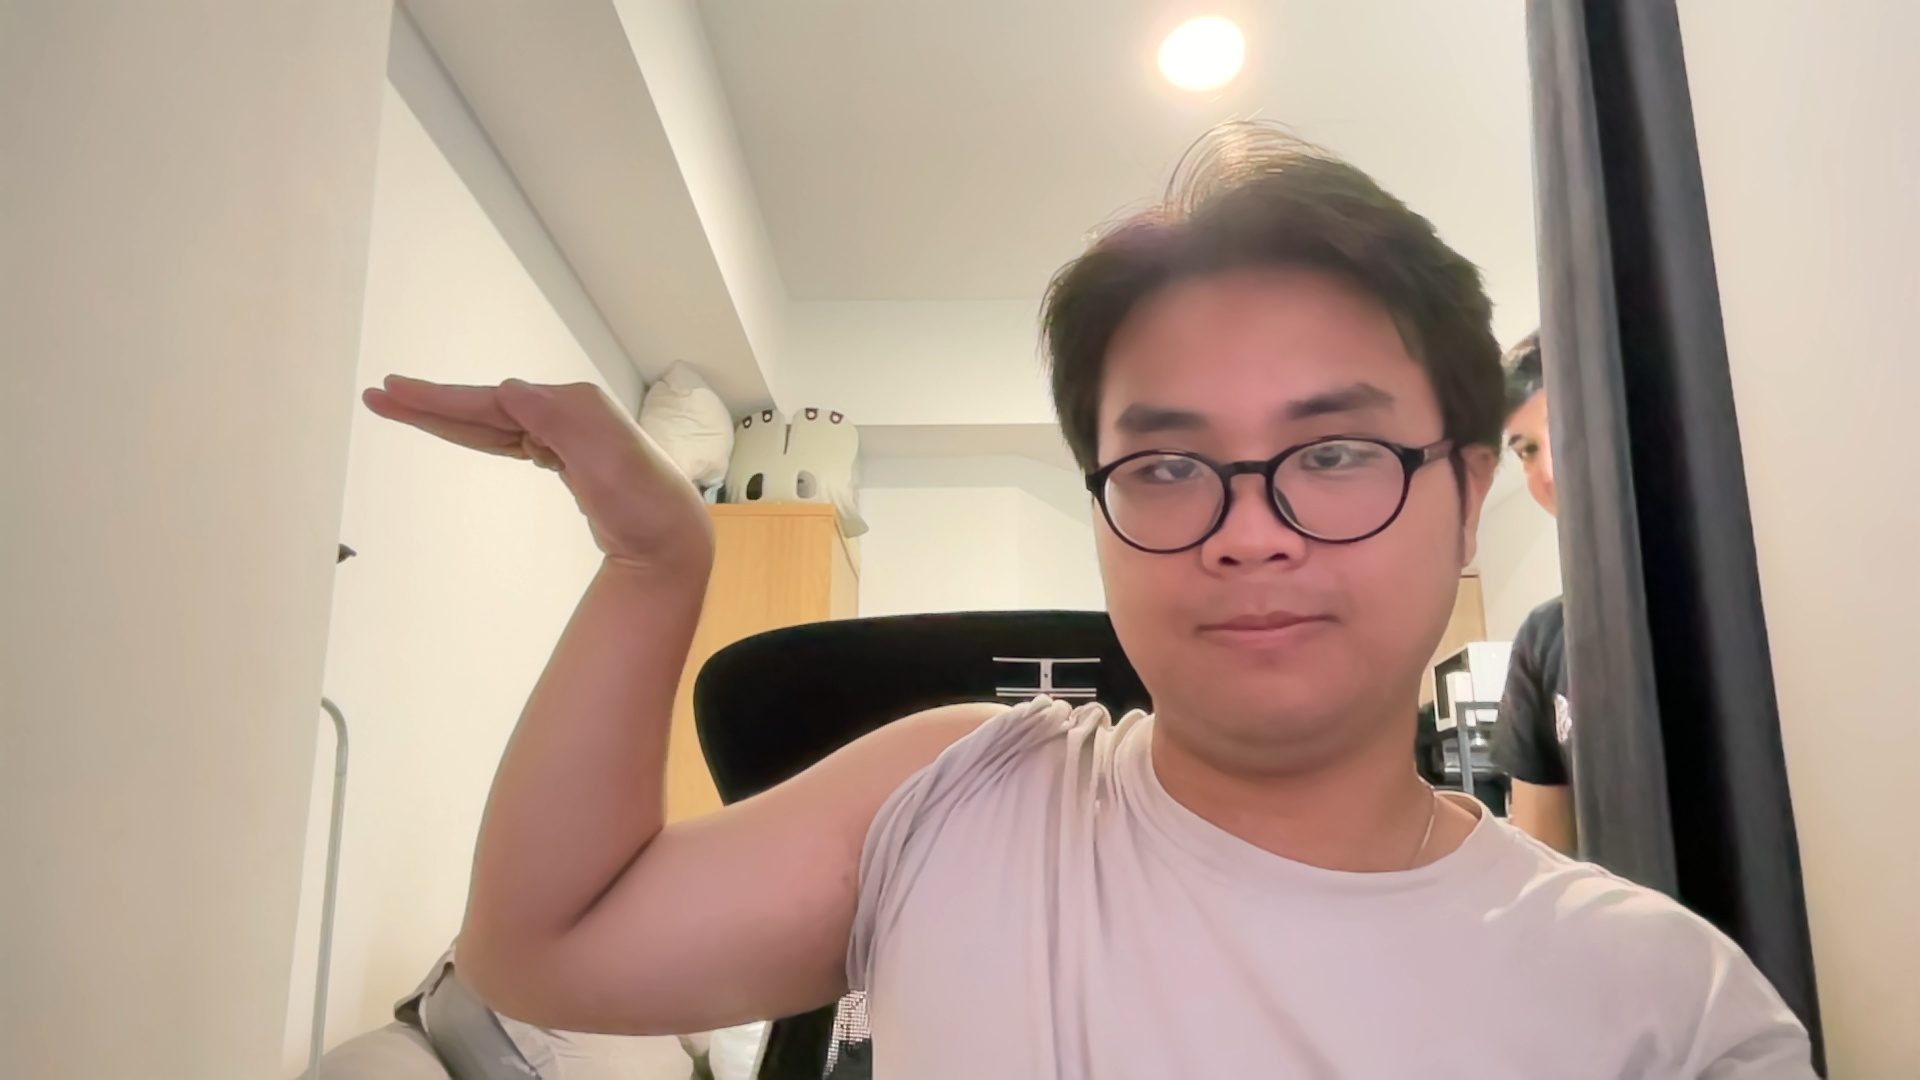Z: (328, 309, 884, 1054)
